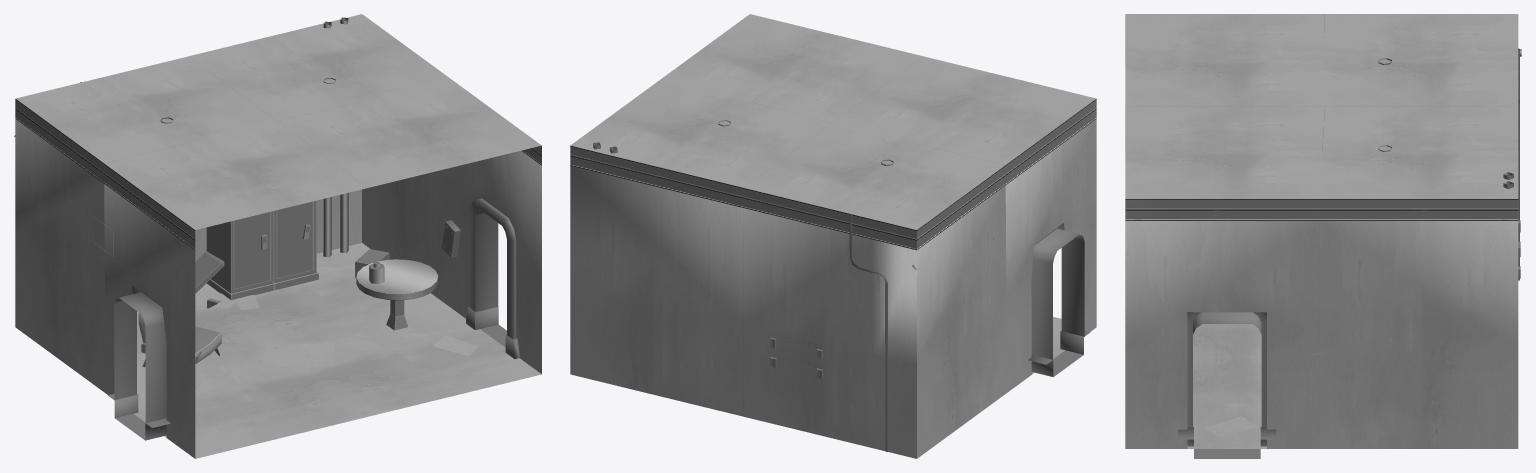
The model's file is MSH_QuestStandard_L3_R1_optimized.fbx.
3 renders of one model, left to right at view 1: azimuth 30°, elevation 25°; view 2: azimuth 150°, elevation 25°; view 3: azimuth 270°, elevation 25°, orthographic. The views are drawn at different scales.
Visible parts, largest first — view 1: lightmap5, lightmap0, lightmap1, lightmap-1; view 2: lightmap5, lightmap1, lightmap0; view 3: lightmap5, lightmap0, lightmap1, lightmap-1.
Boxes of the visible parts, x1,y1,x2,y2 form: lightmap5: (15,14,541,458); lightmap0: (14,17,519,427); lightmap1: (114,209,506,440); lightmap-1: (195,289,478,367); lightmap5: (570,14,1096,458); lightmap1: (1031,229,1084,377); lightmap0: (593,120,1090,451); lightmap5: (1125,14,1518,448); lightmap0: (1178,48,1521,446); lightmap1: (1193,312,1261,458); lightmap-1: (1204,364,1261,437).
Bounding box in the file's own units: 10.3 × 6.02 × 8.43.
